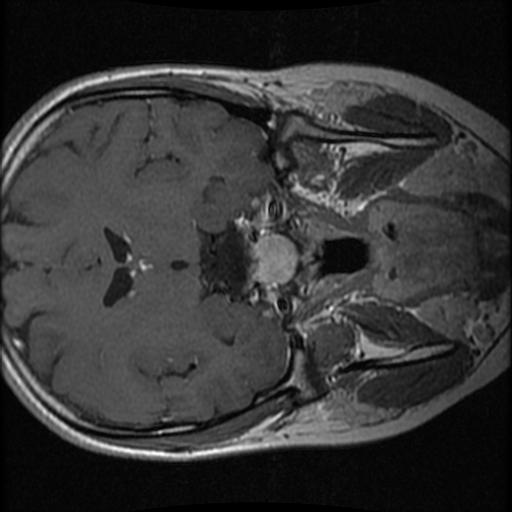pituitary tumour: (245, 233, 298, 283)
